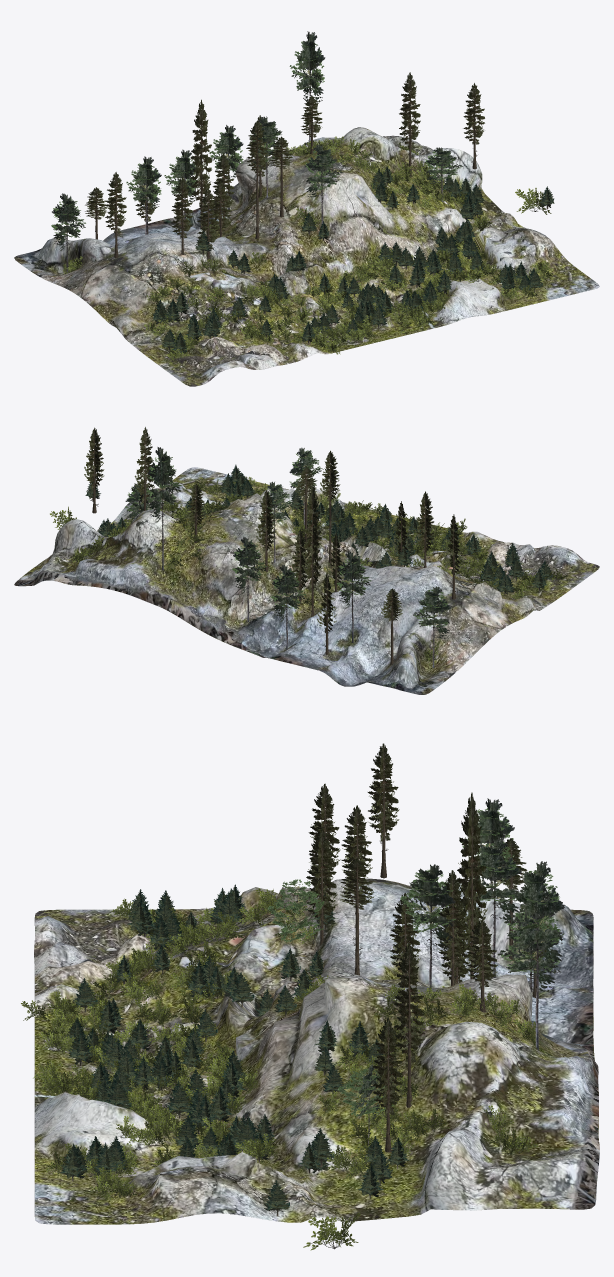
File: landscape.glb
3 renders of one model, top to bottom at view 1: azimuth 30°, elevation 25°; view 2: azimuth 150°, elevation 25°; view 3: azimuth 270°, elevation 25°, orthographic. The views are drawn at different scales.
Bounding box in the file's own units: 33.66 × 13.04 × 23.4.
10 materials, 10 textured.
